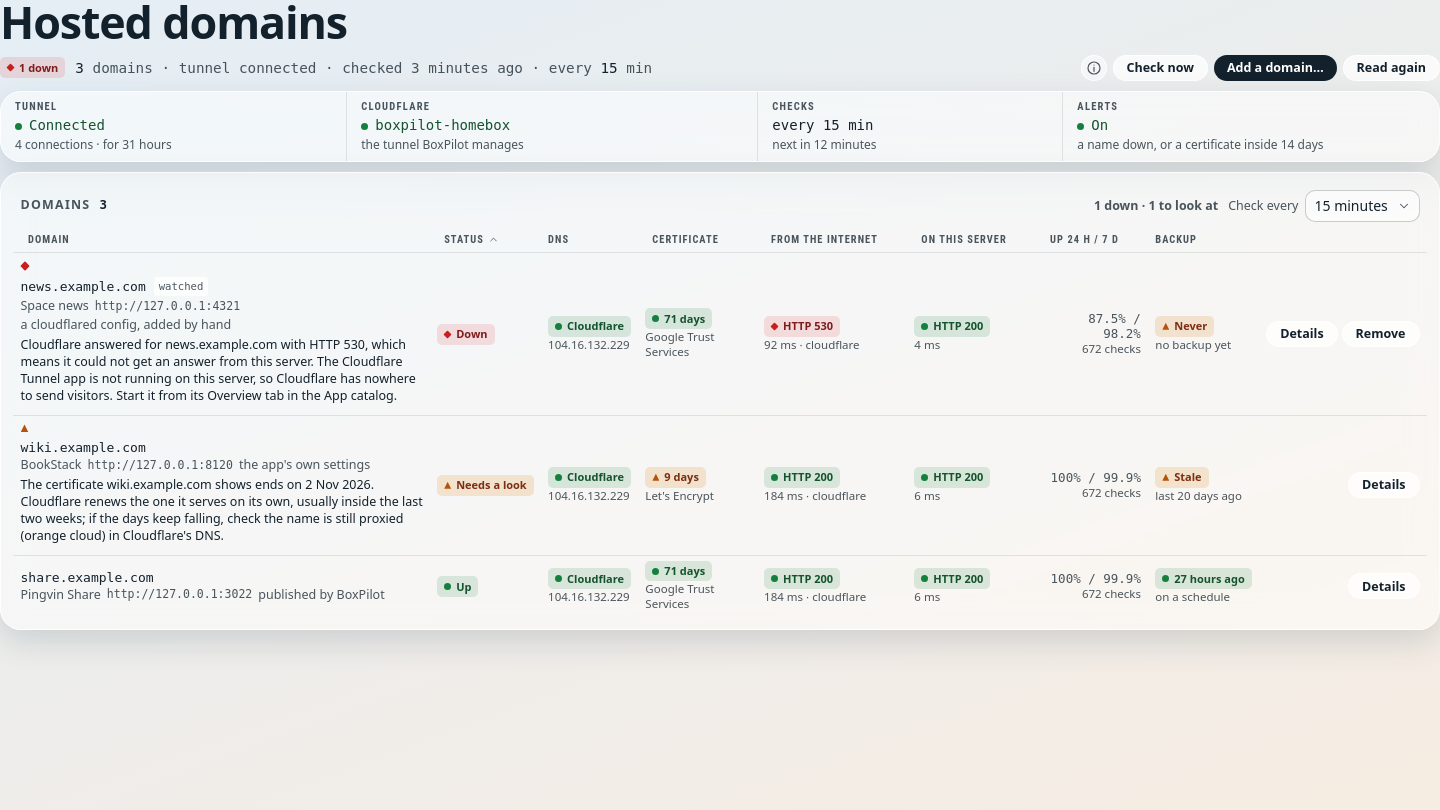
Test: Hosted domains page › opens a name's facts and what to do in a sheet
Click the button with aria-label "Details of wiki.example.com". click: (1384, 485)
box: [1348,472,1420,498]
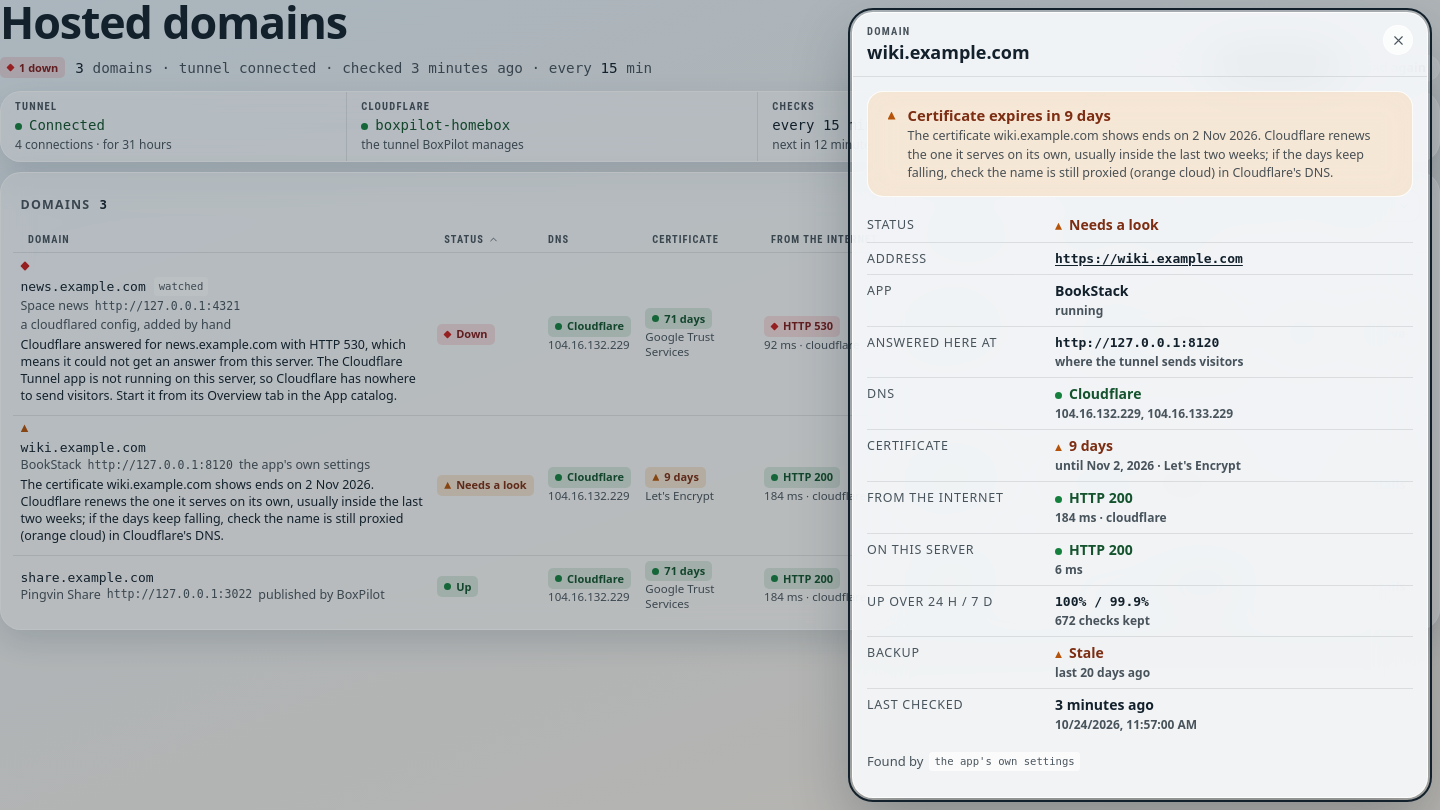
Result: the text "Certificate expires in 9 days" is shown at [908,104,1111,124]
Result: the text "orange cloud" is shown at [908,128,1370,181]
Result: the text "http://127.0.0.1:8120" is shown at [1055,335,1219,350]
Click the button named "Close". click: (1398, 40)
box: [1383,25,1413,55]
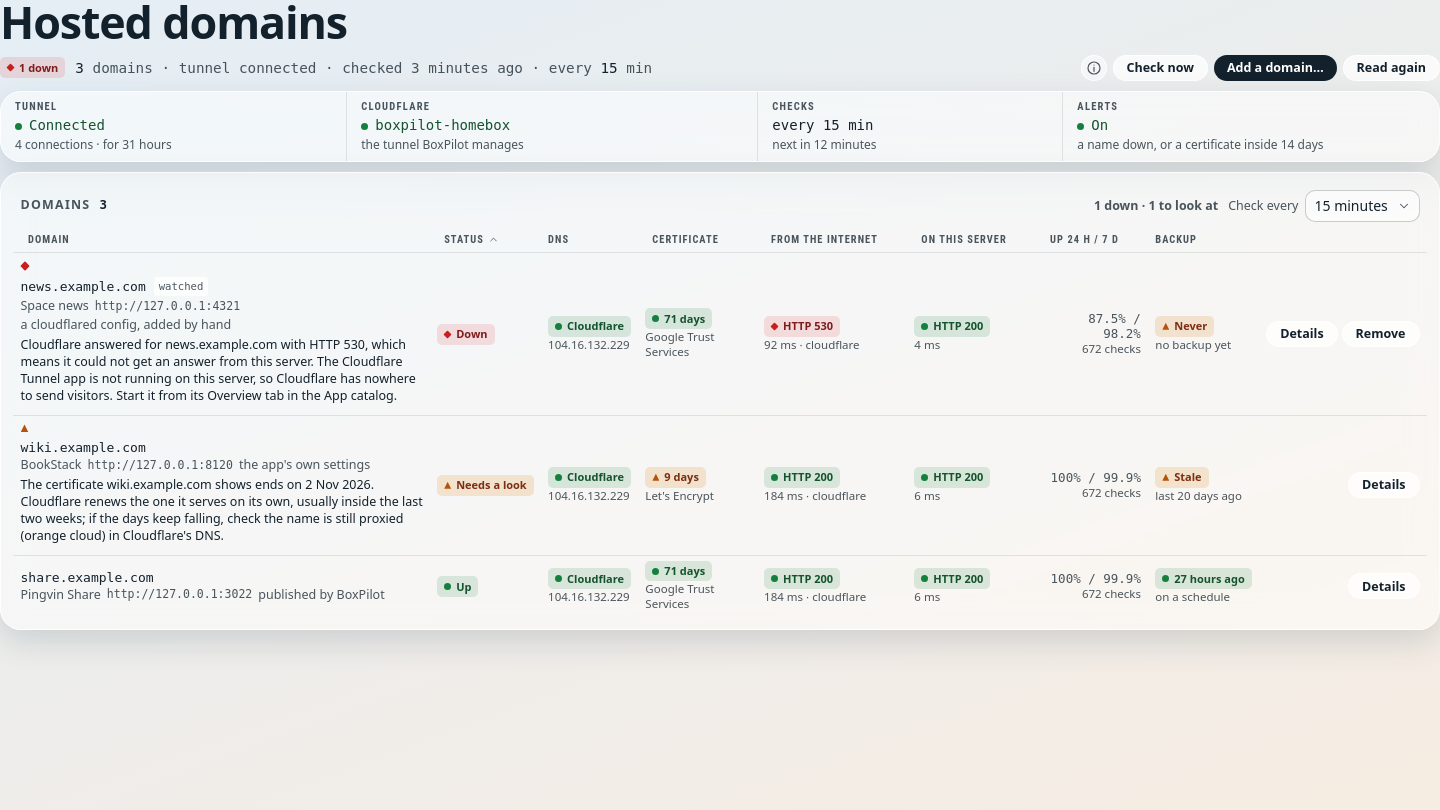
Result: the dialog is gone
